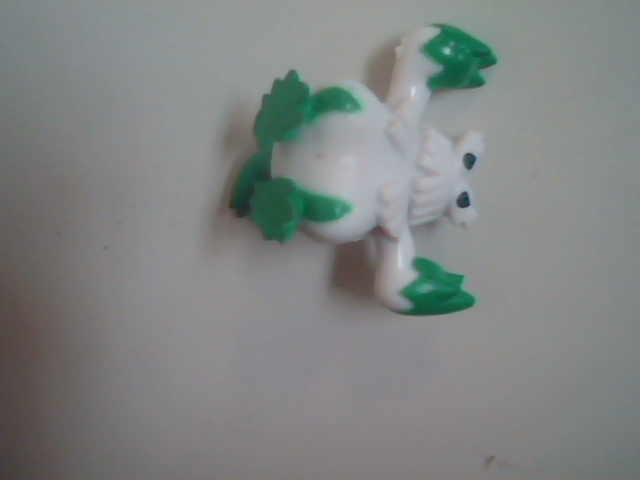abomasnow: (178, 27, 547, 365)
